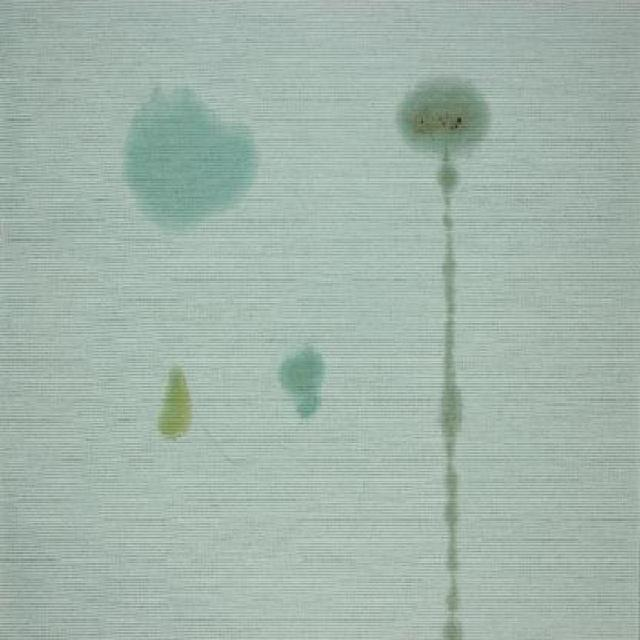Thread_other: (377, 67, 524, 640), (116, 74, 284, 240), (248, 324, 346, 440), (123, 342, 219, 444)
